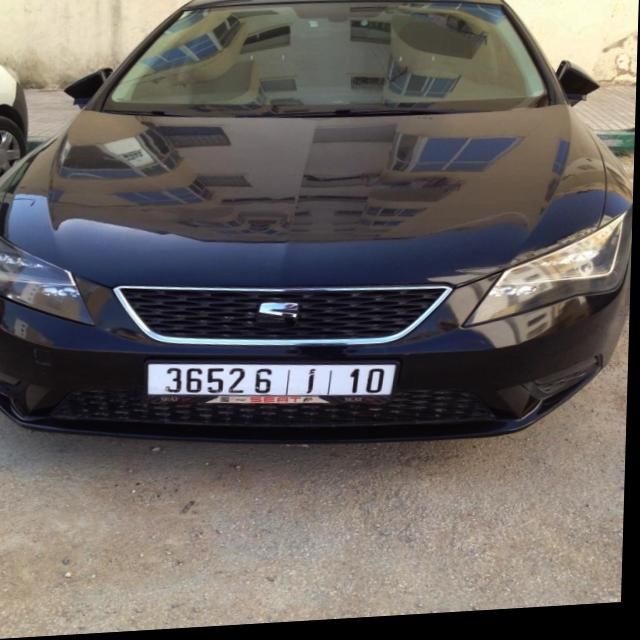License-Plate: (149, 365, 399, 401)
